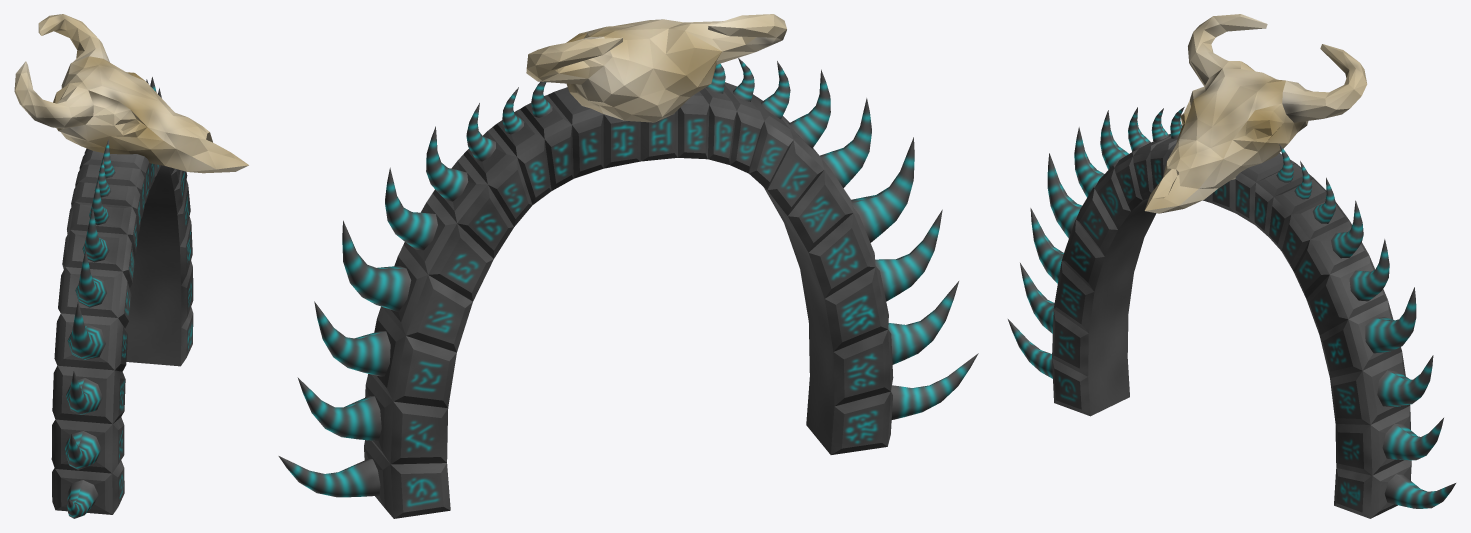
Rendered from LV1Gate.fbx.
3 renders of one model, left to right at view 1: azimuth 30°, elevation 25°; view 2: azimuth 150°, elevation 25°; view 3: azimuth 270°, elevation 25°, orthographic. The views are drawn at different scales.
Visible parts, largest first — view 1: polySurface84; view 2: polySurface84; view 3: polySurface84.
Part boxes in pixels (x1,y1,x2,y2): polySurface84: (14, 14, 248, 518); polySurface84: (278, 14, 978, 518); polySurface84: (1008, 14, 1455, 518).
Size of the model in its own units: 32.24 by 35.57 by 37.22.
